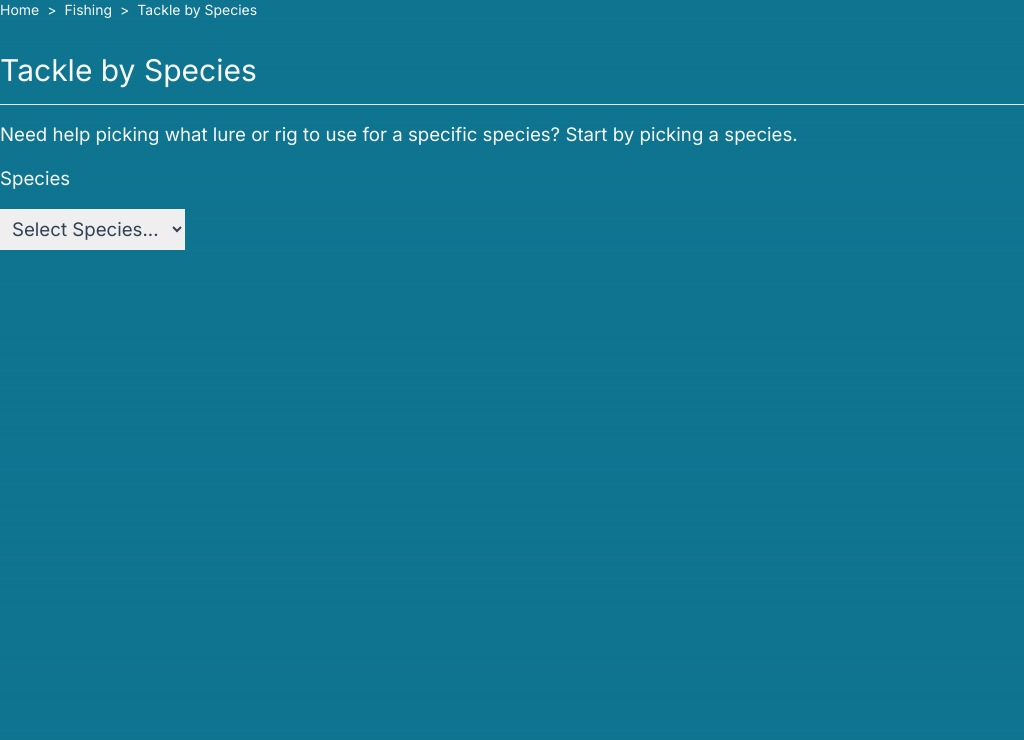
Test case: TackleBySpecies › lucky tackle button works
The width and height of the screenshot is (1024, 740).
Select "largemouth bass" in the dropdown at (92, 230), box [0,209,185,250]
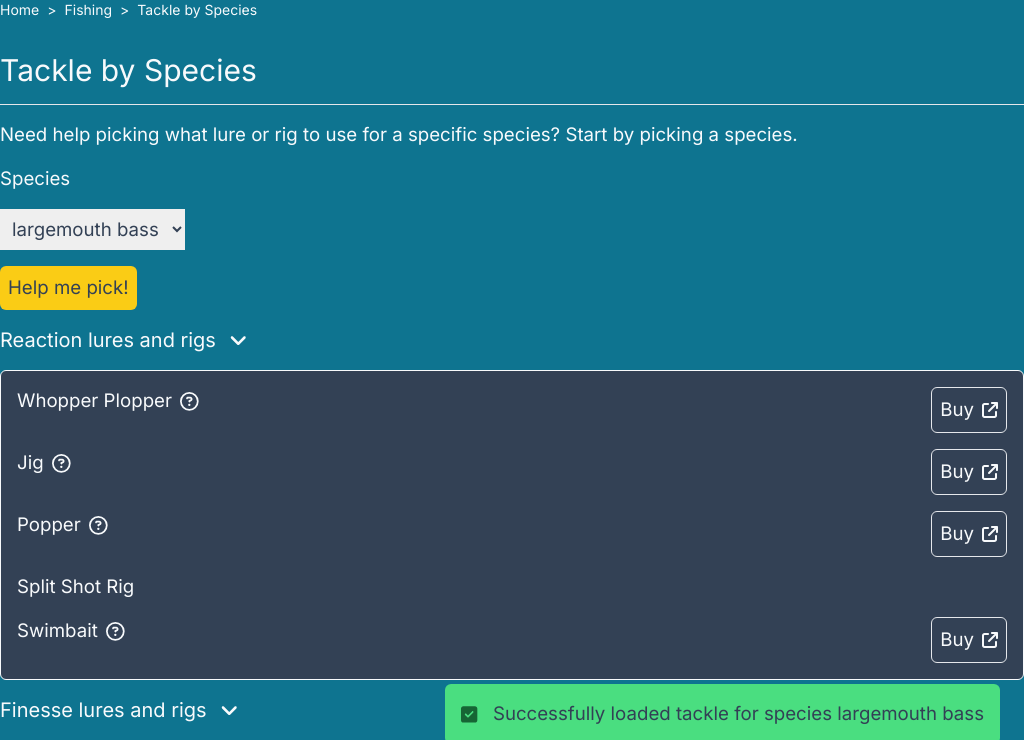
Expected: the text "lures and rigs" is shown, [0,328,216,352]
Click the button "Help me pick!" at (68, 288), box [0,266,137,310]
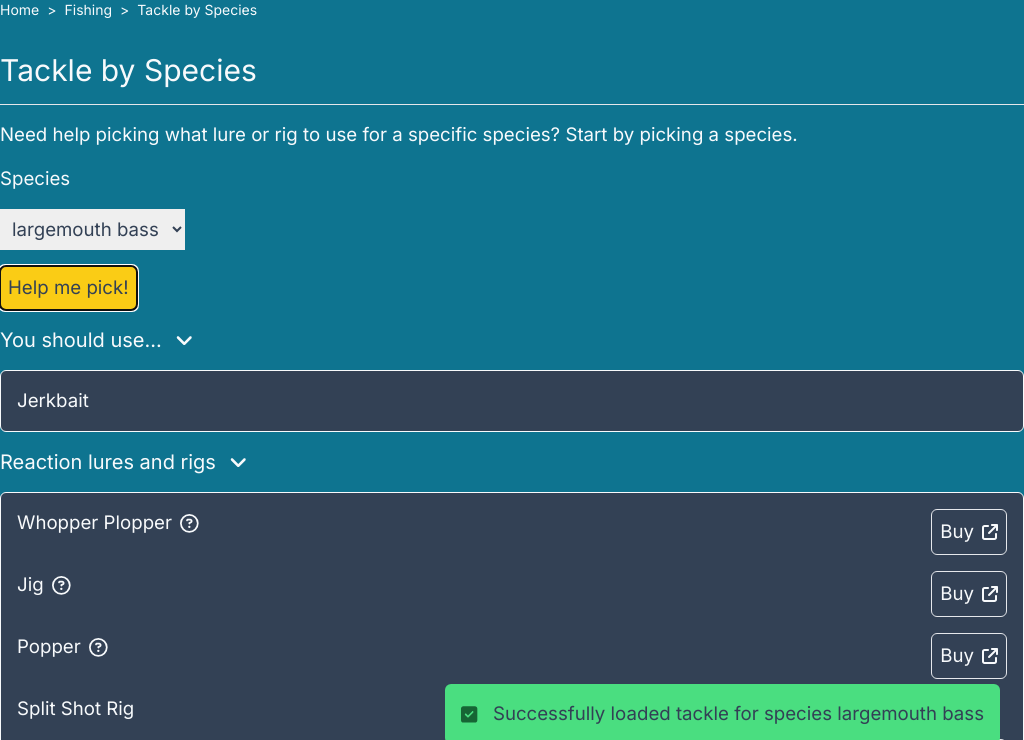
Expected: the text "You should use..." is shown, [0,326,162,354]
